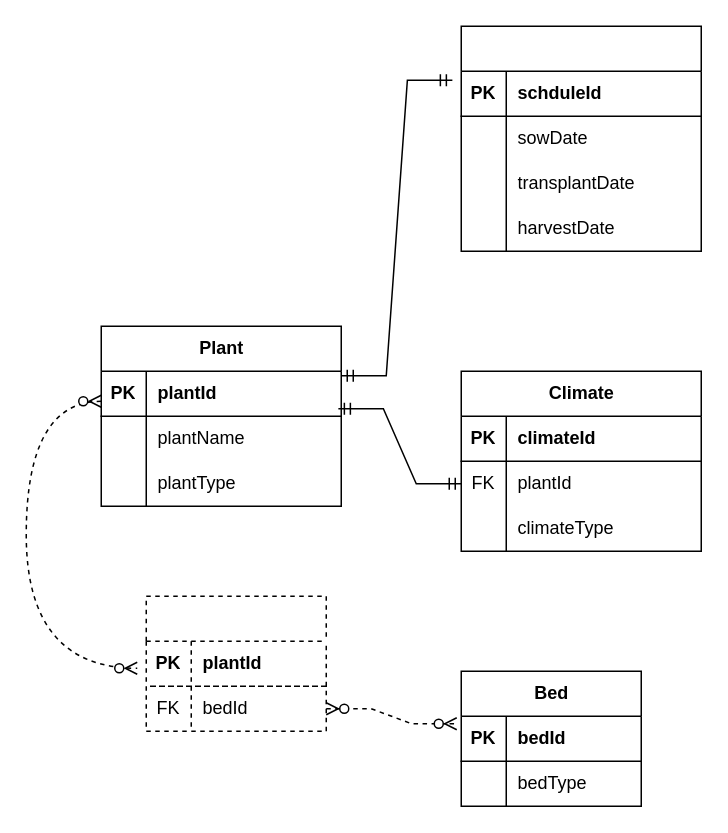
Image size: 728x833. Some labels were removed from this diagram. The box of each missing label's shape, as (x1, y1, x2, y2) in pixels:
Plant_Bed: (145, 595, 326, 731)
Schedule: (460, 25, 701, 251)
